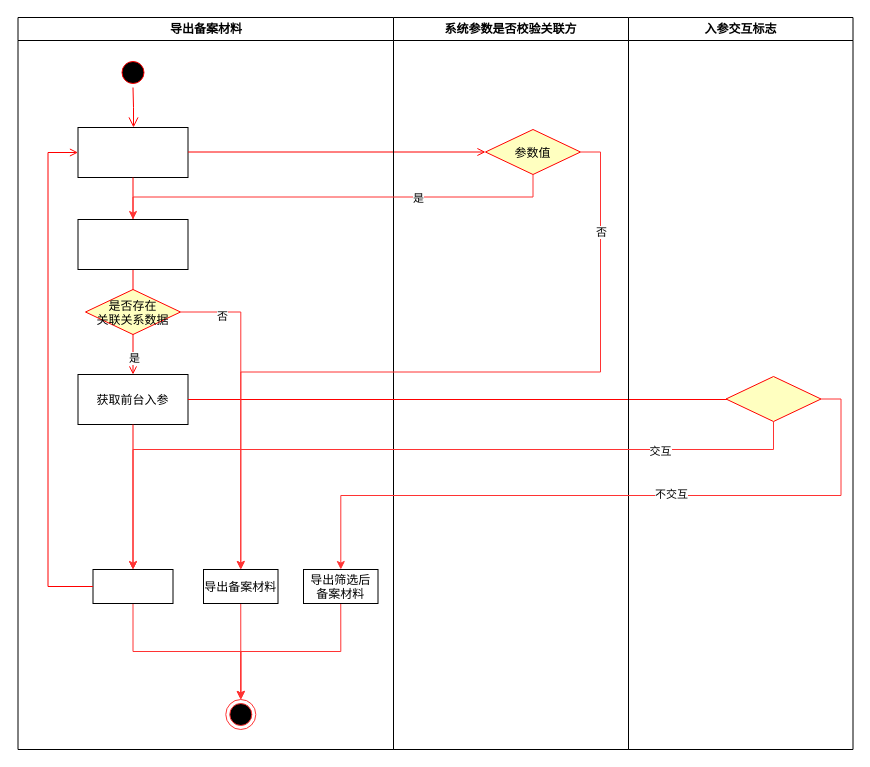
This 870x767 diagram has some shape labels left out. Here are the shapes that lost their labels. From the top down, the centre of each, then its label:
At (x=132, y=152): "获取系统参数".
At (x=132, y=244): "过滤导出数据 记录关联数据".
At (x=773, y=399): "入参值".
At (x=132, y=586): "返回关联数据".
